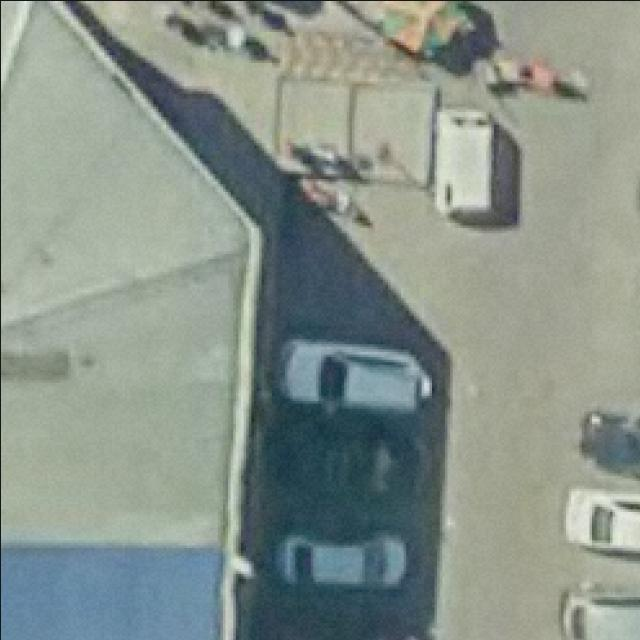vendedor_ambulante: (369, 0, 472, 62)
